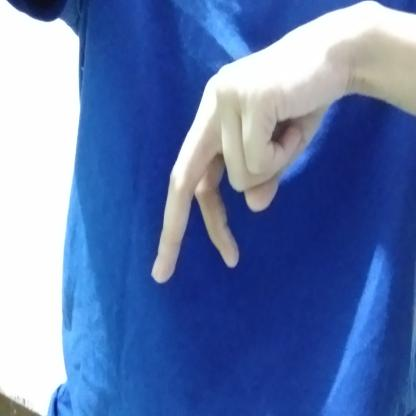run: (146, 7, 340, 293)
